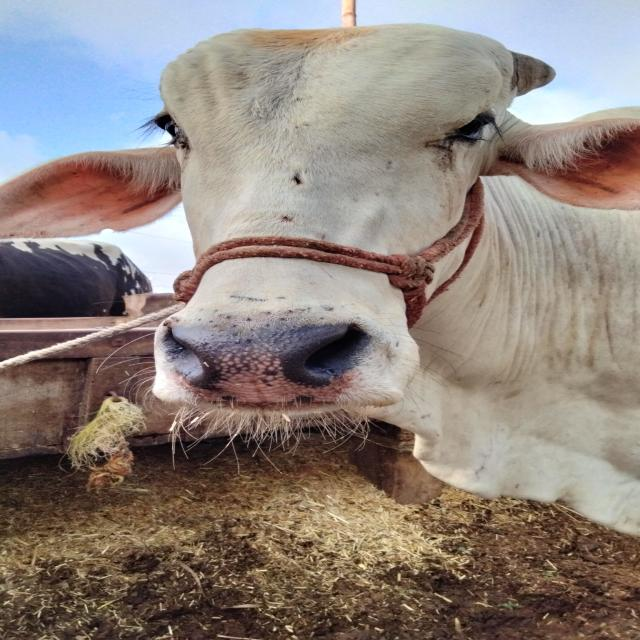muzzles: (154, 313, 379, 406)
